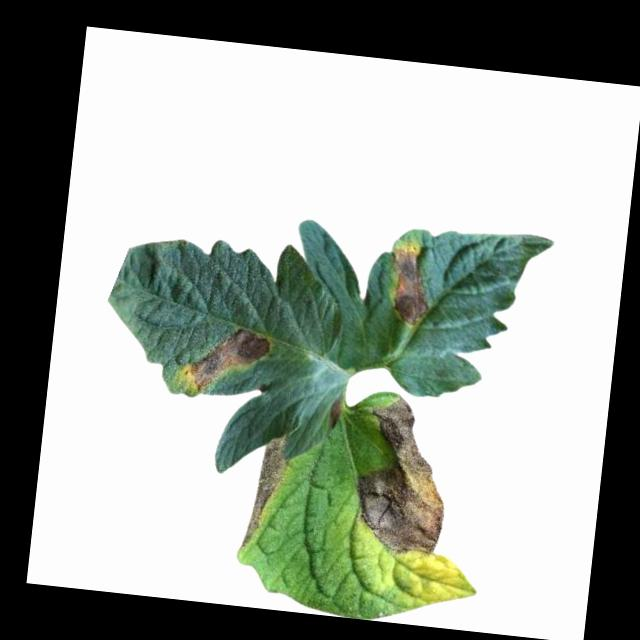Early_blight: (347, 393, 456, 557), (176, 320, 271, 395), (241, 431, 288, 552), (381, 242, 436, 327), (327, 394, 345, 429)
